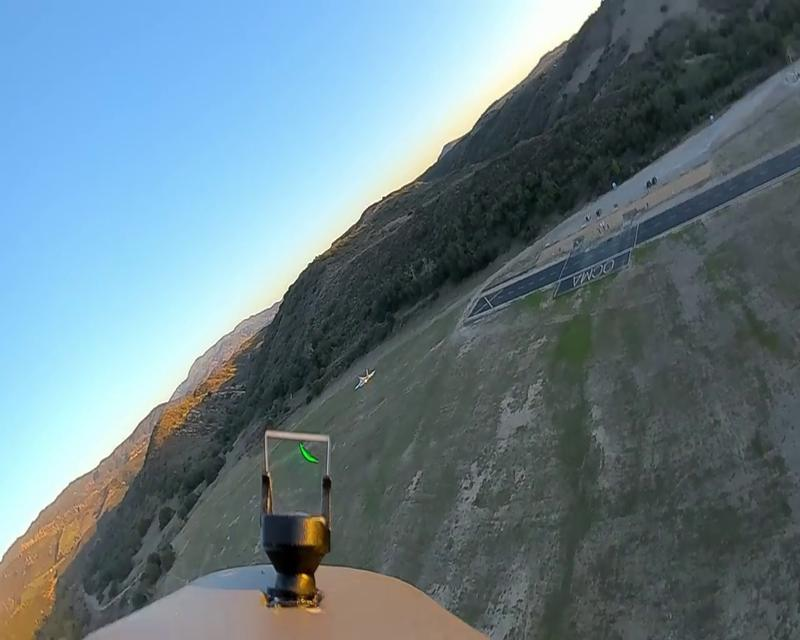UAV: (354, 368, 376, 391)
